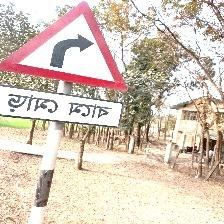Left-Turn: (0, 0, 129, 130)
